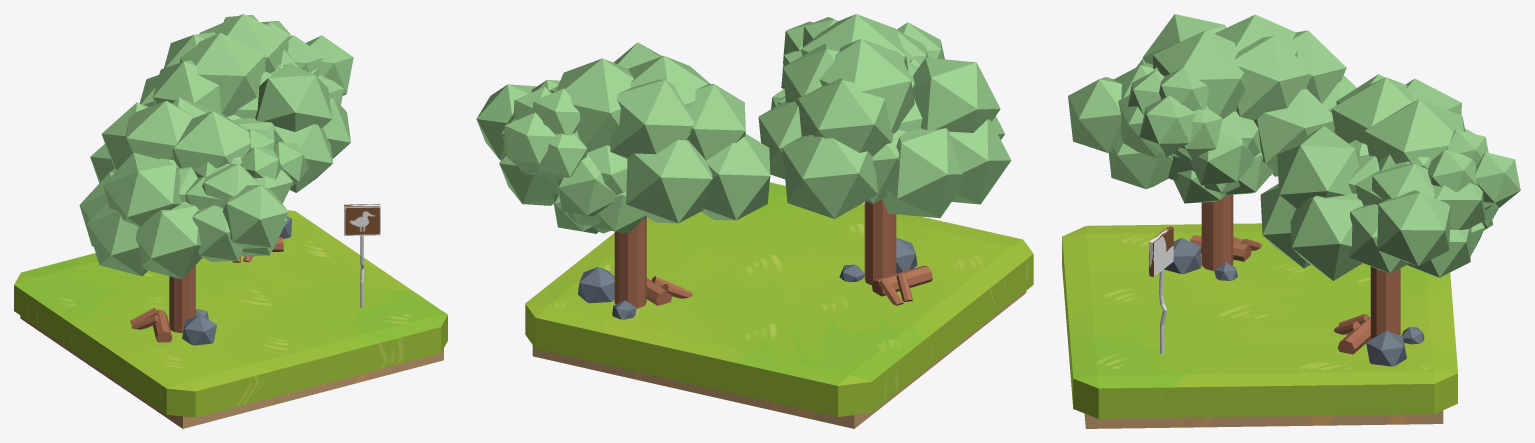
Rendered from naturschutz.fbx.
3 renders of one model, left to right at view 1: azimuth 30°, elevation 25°; view 2: azimuth 150°, elevation 25°; view 3: azimuth 270°, elevation 25°, orthographic. The views are drawn at different scales.
Parts seen in each view (by area): view 1: Cube.001, Cylinder.003, Cylinder.001, Cube, Cube.002; view 2: Cube.001, Cylinder.001, Cylinder.003, Cube; view 3: Cube.001, Cylinder.001, Cylinder.003, Cube, Cube.002.
Boxes of the visible parts, left/top/right/bottom form: Cube.001: left=14, top=210, right=447, bottom=417; Cylinder.003: left=79, top=97, right=309, bottom=345; Cylinder.001: left=140, top=14, right=353, bottom=262; Cube: left=20, top=315, right=443, bottom=428; Cube.002: left=344, top=204, right=380, bottom=235; Cube.001: left=525, top=182, right=1033, bottom=416; Cylinder.001: left=476, top=42, right=770, bottom=319; Cylinder.003: left=758, top=14, right=1011, bottom=305; Cube: left=532, top=291, right=1026, bottom=428; Cube.001: left=1062, top=223, right=1457, bottom=418; Cylinder.001: left=1260, top=74, right=1520, bottom=366; Cylinder.003: left=1068, top=14, right=1356, bottom=280; Cube: left=1084, top=410, right=1443, bottom=428; Cube.002: left=1149, top=226, right=1173, bottom=276.
Size of the model in its own units: 129 by 91.97 by 128.
Materials: 23 (3 with a texture image).
